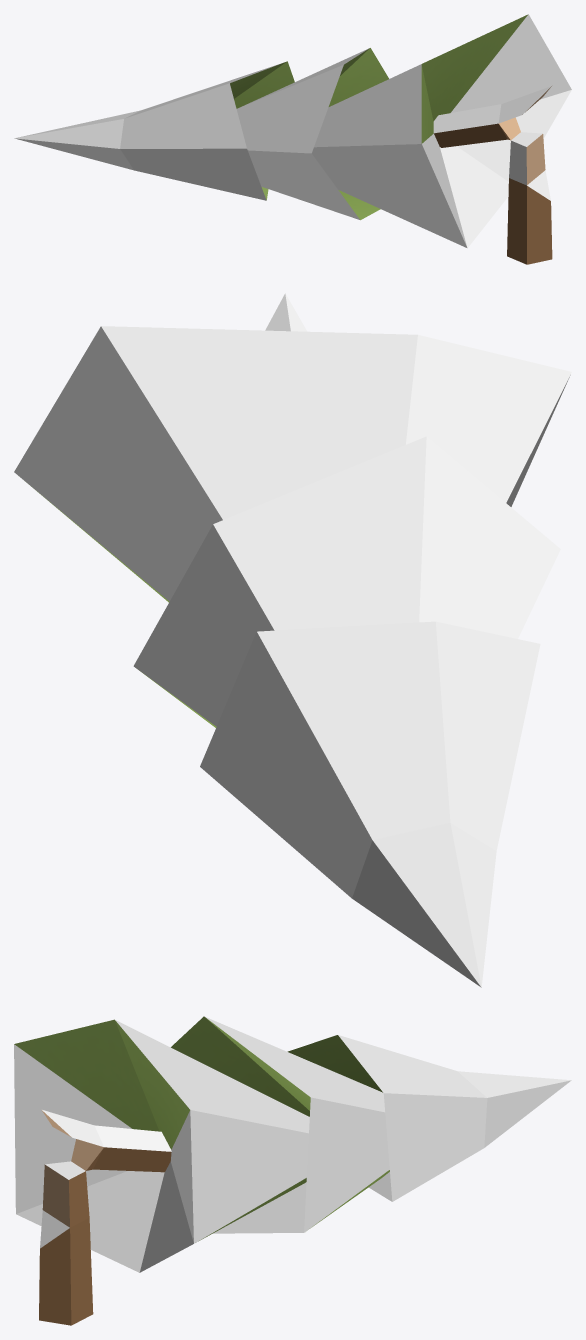
File: Pine_Tree_crk_s_Snow_01.fbx
3 views of the same model, one above another, from view 1: azimuth 30°, elevation 25°; view 2: azimuth 150°, elevation 25°; view 3: azimuth 270°, elevation 25° (orthographic). The views are drawn at different scales.
Visible parts, largest first — view 1: Pine_Tree_crk_s_Snow_01; view 2: Pine_Tree_crk_s_Snow_01; view 3: Pine_Tree_crk_s_Snow_01.
Boxes of the visible parts, bbox=[...] form: Pine_Tree_crk_s_Snow_01: bbox=[14, 14, 571, 264]; Pine_Tree_crk_s_Snow_01: bbox=[14, 293, 571, 987]; Pine_Tree_crk_s_Snow_01: bbox=[14, 1016, 571, 1325].
Size of the model in its own units: 207 by 96.44 by 202.
